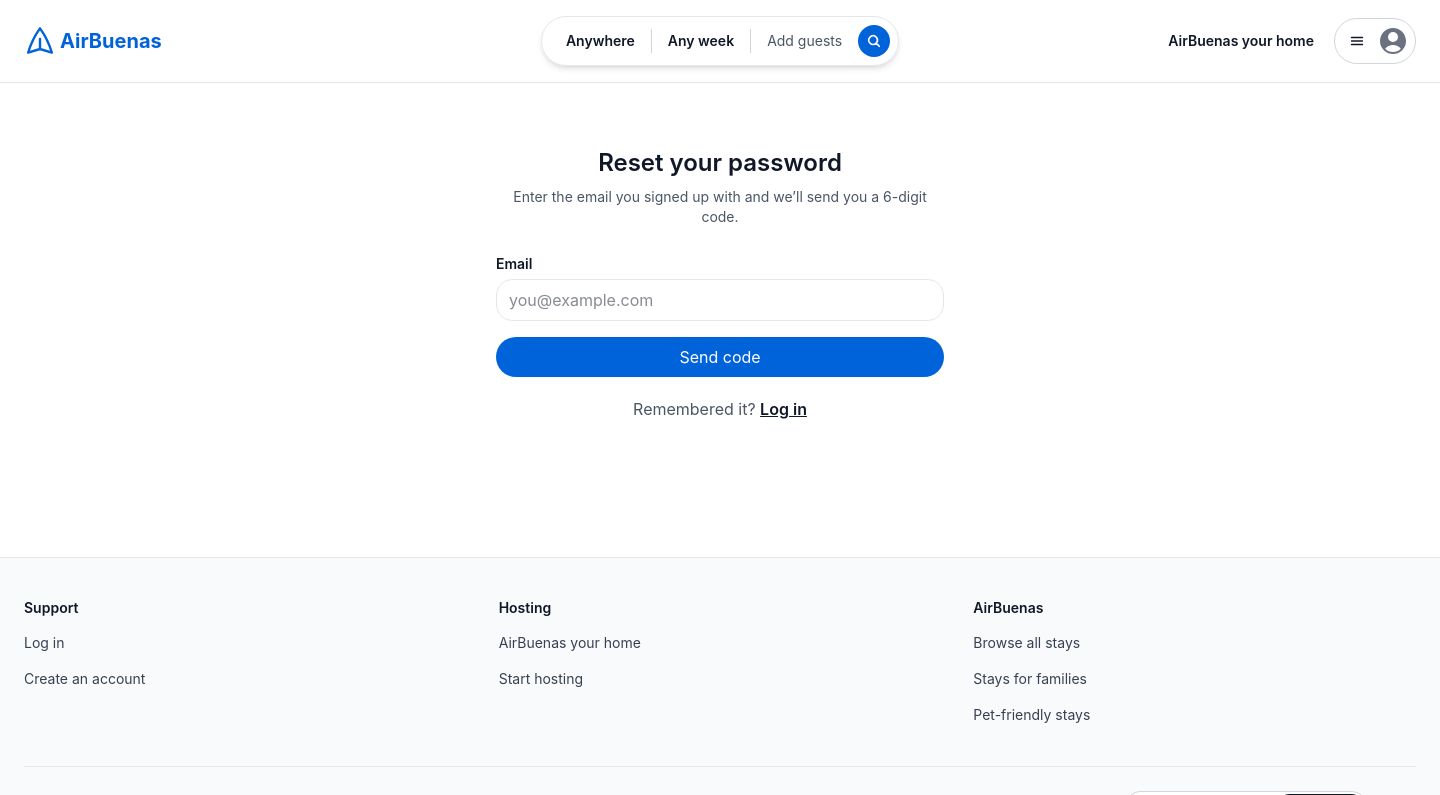
Test case: password reset › shows the server's reasons and lets the user start again
Type "amina@example.com" into the field labelled "Email" at (720, 300), box [496, 279, 944, 321]
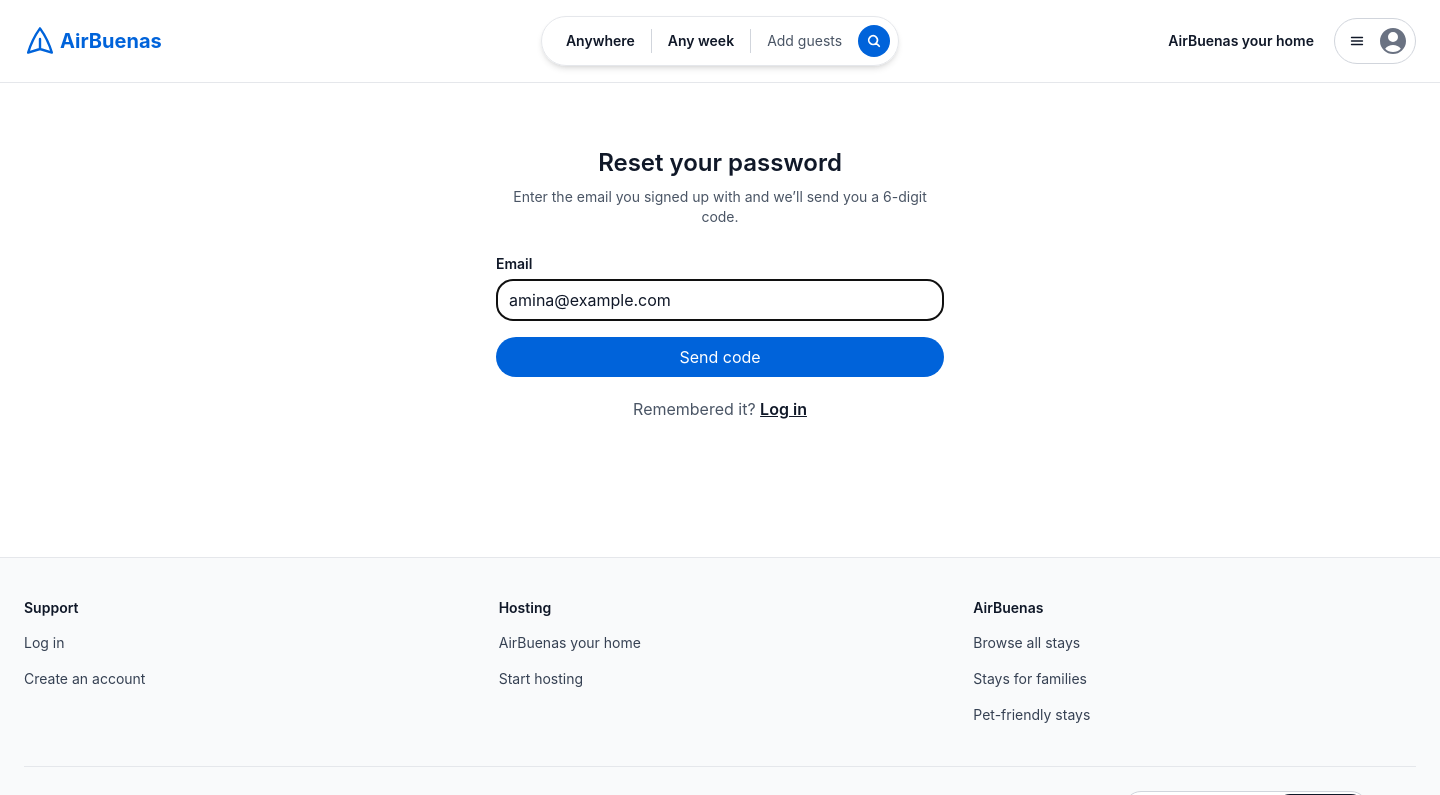
Click the button "Send code" at (720, 357), box [496, 337, 944, 377]
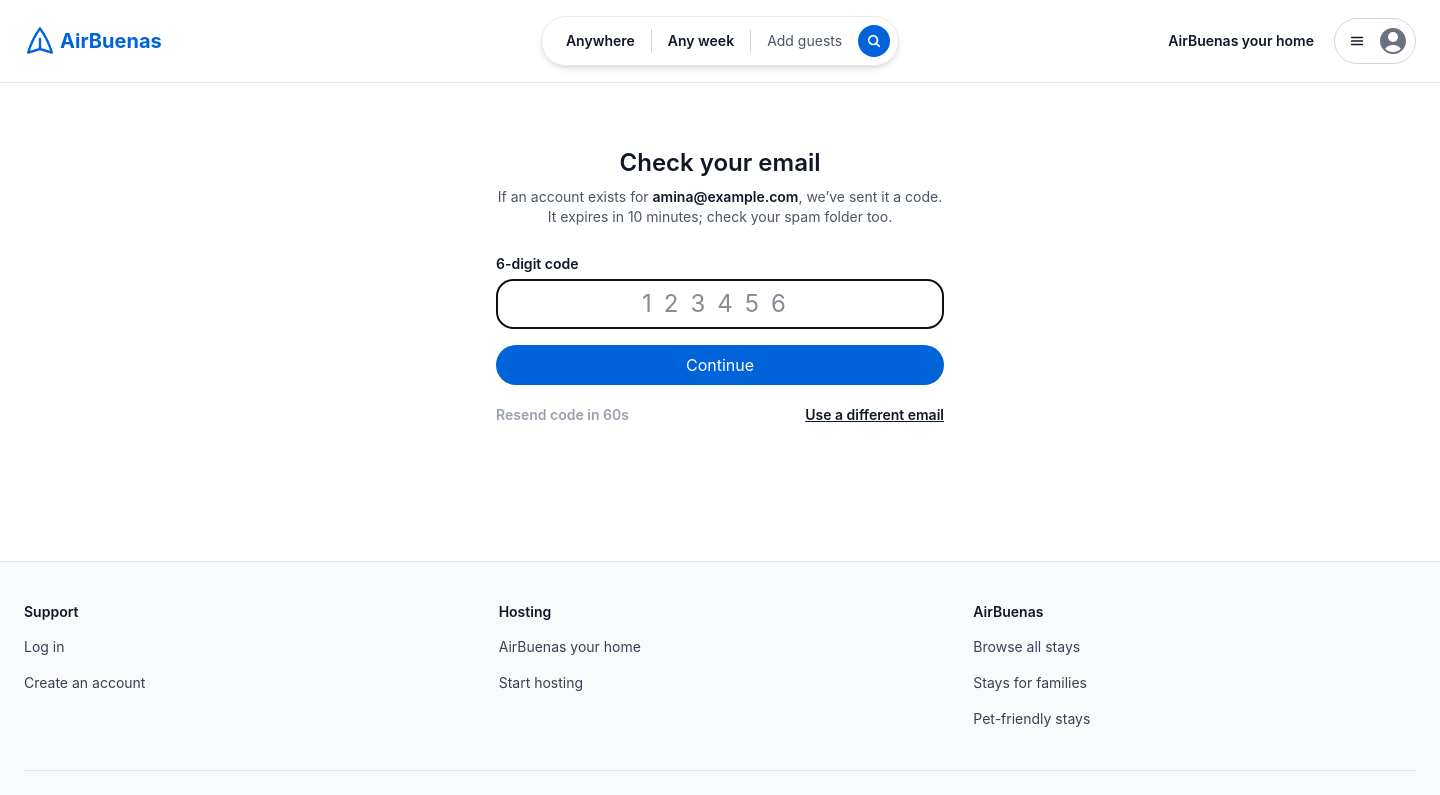
Type "000000" into the field labelled "6-digit code" at (720, 304), box [496, 279, 944, 329]
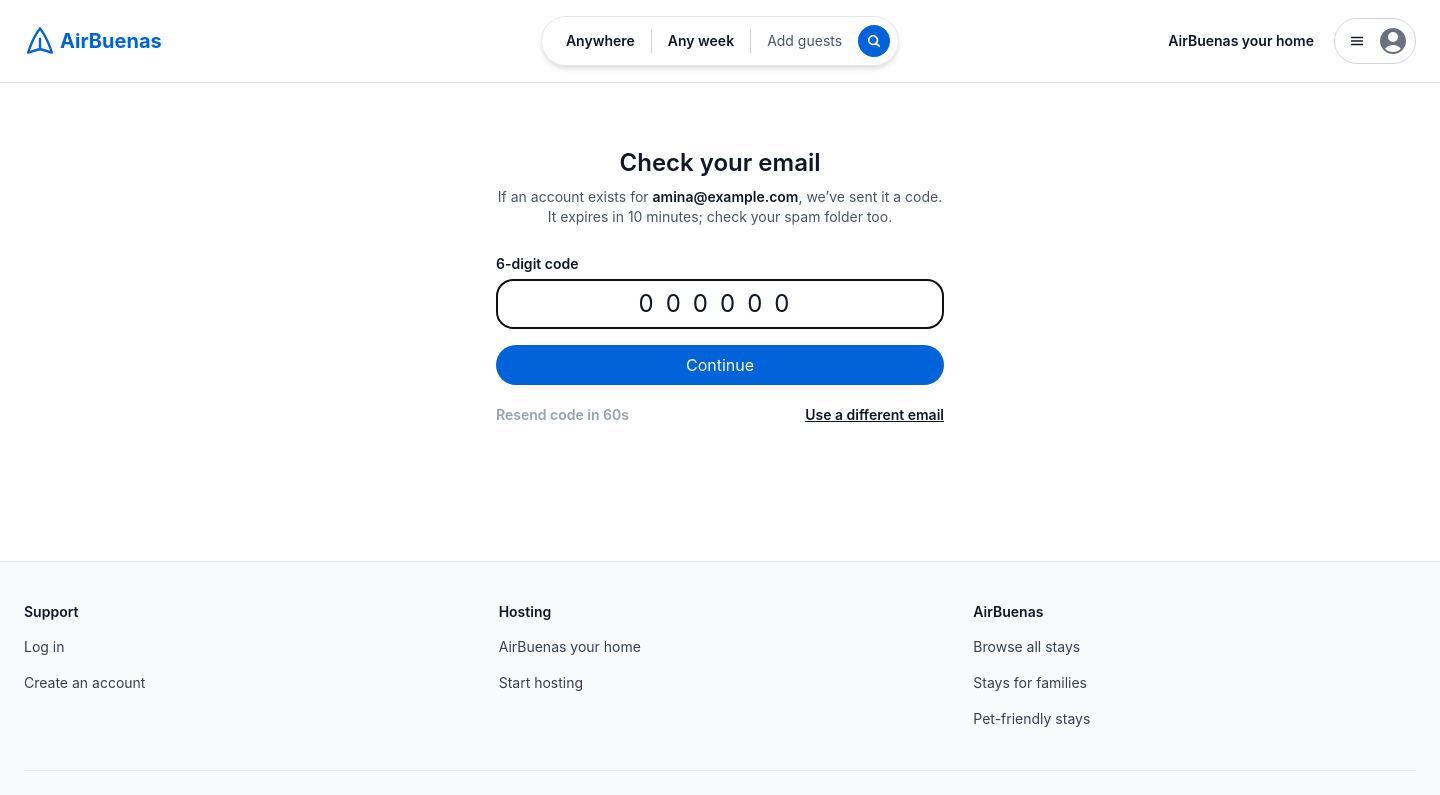
Click the button "Continue" at (720, 365), box [496, 345, 944, 385]
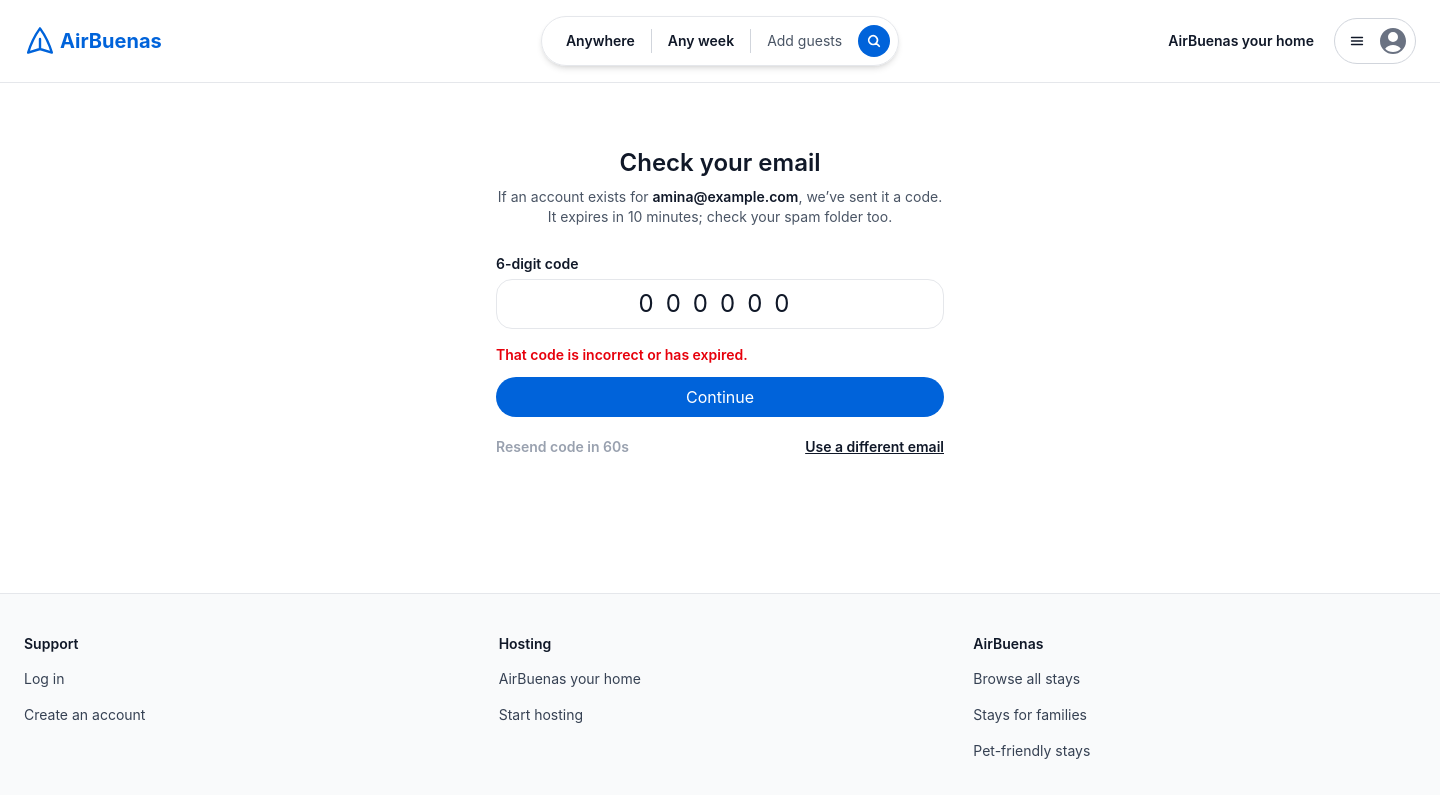
Expected: the message reads "That code is incorrect or has expired.", [496, 346, 748, 363]
Click the button "Use a different email" at (875, 447), box [805, 437, 944, 457]
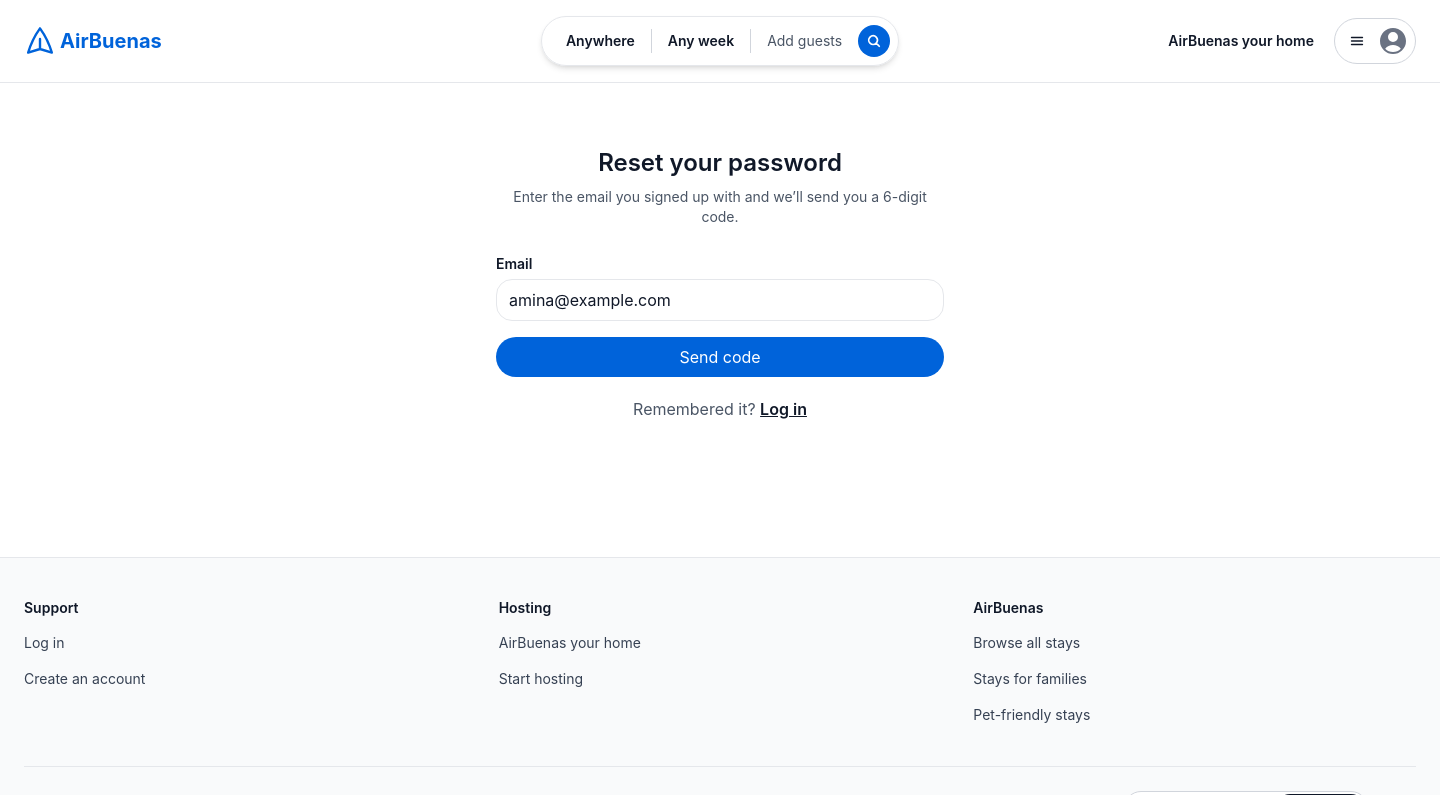
Expected: the field labelled "Email" holds "amina@example.com", [496, 279, 944, 321]
Expected: the message "That code is incorrect or has expired." is gone
